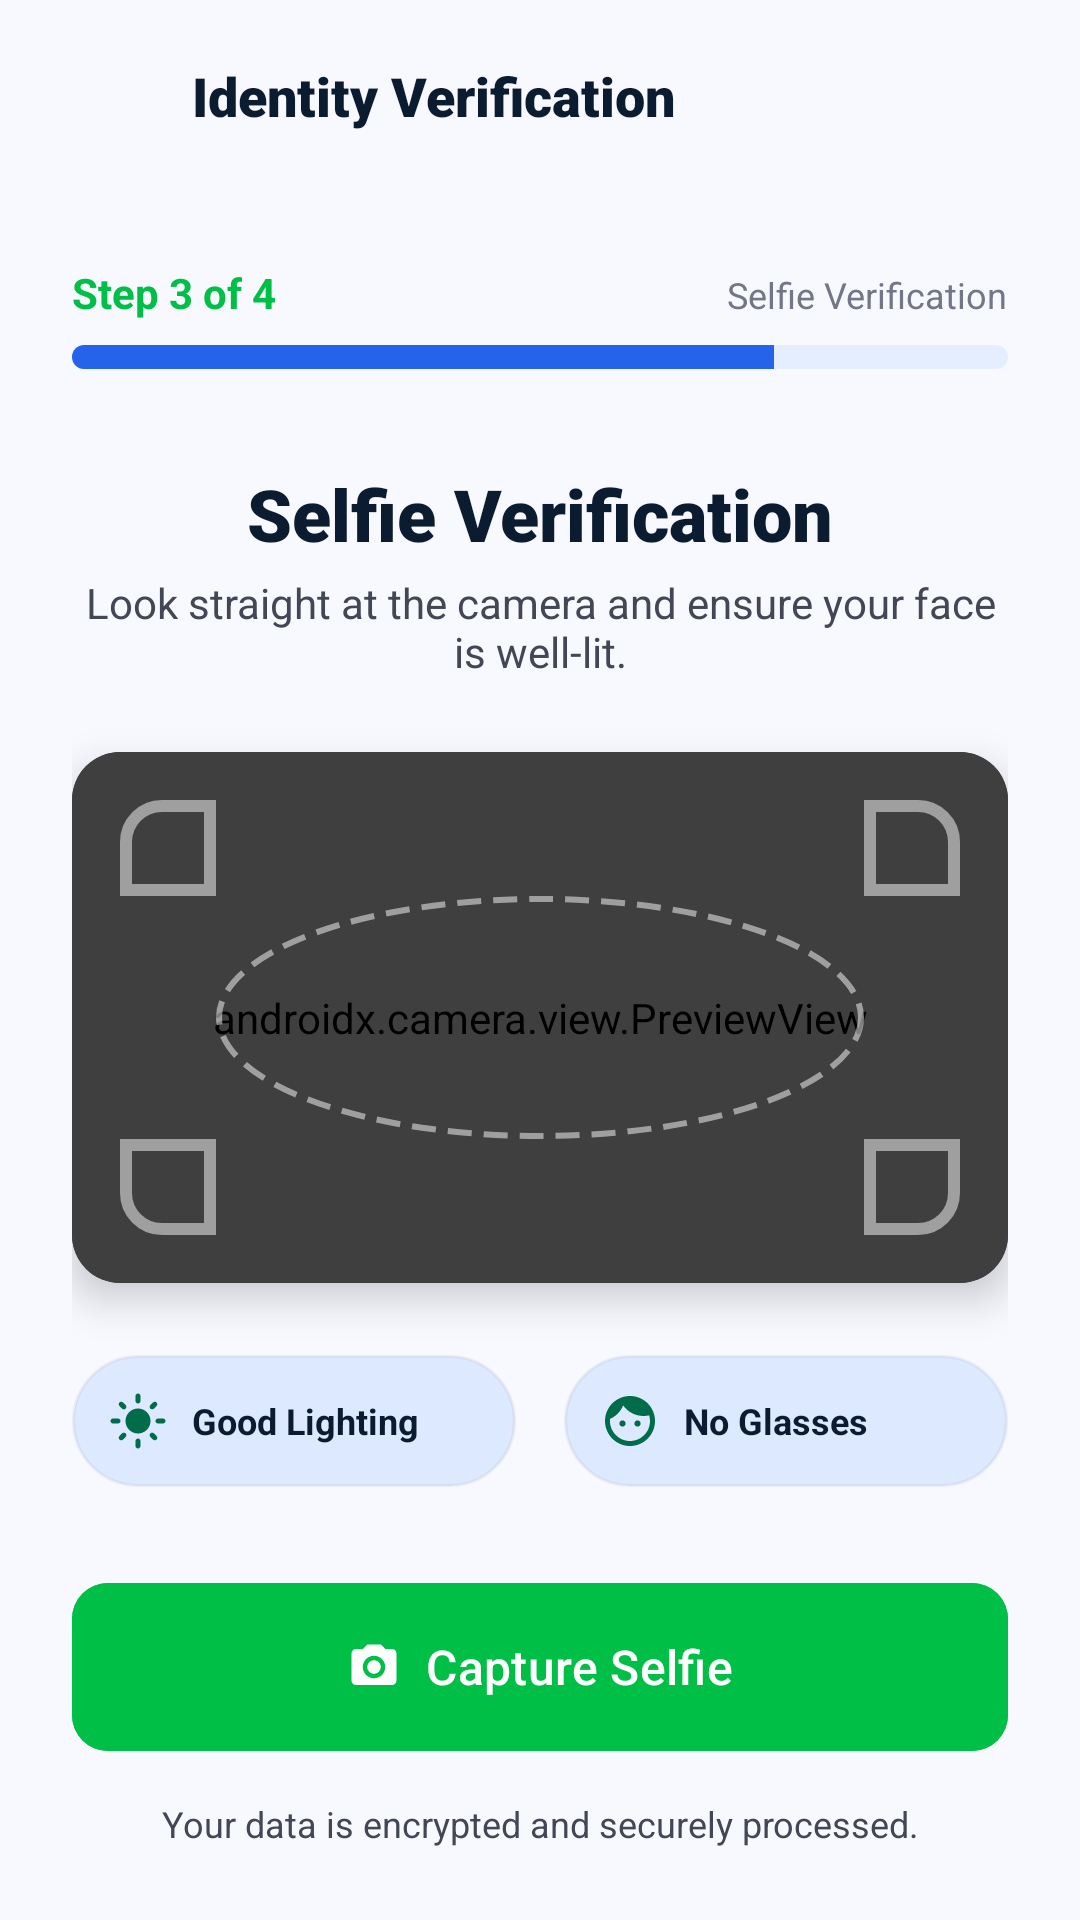

Screen size 1080 × 1920. Icon name, then its box in pixels as (x1, y1, x2, y2):
face: (605, 1396, 655, 1446)
